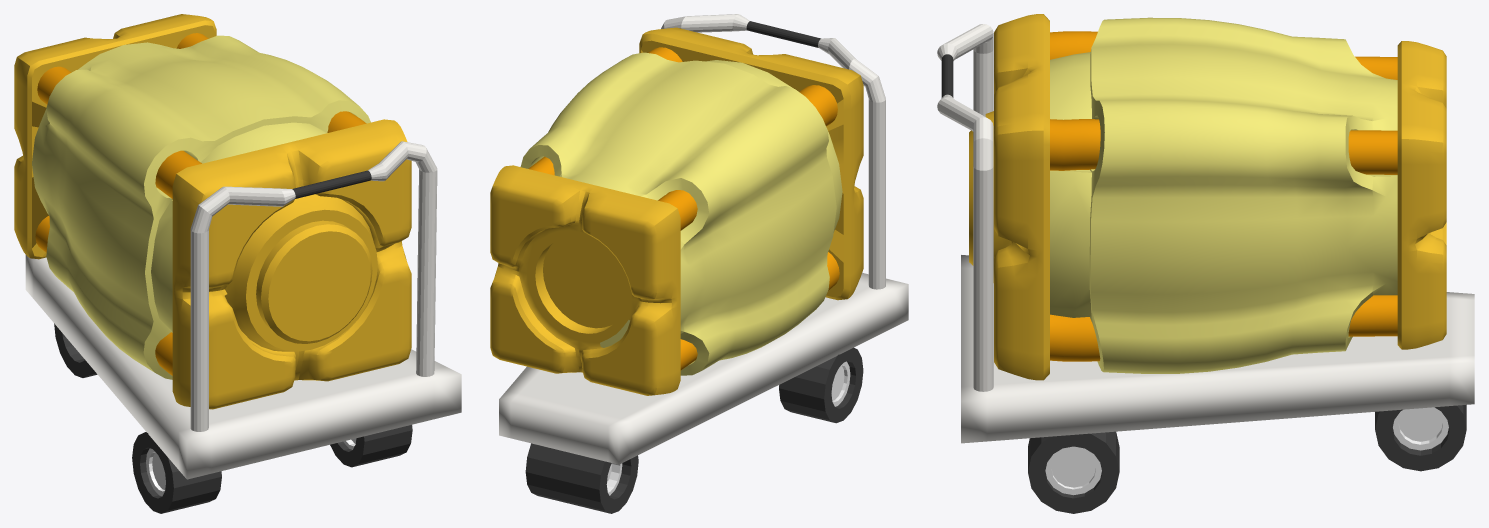
The model's file is Machine.fbx.
3 views of the same model, side by side, from view 1: azimuth 30°, elevation 25°; view 2: azimuth 150°, elevation 25°; view 3: azimuth 270°, elevation 25° (orthographic). The views are drawn at different scales.
Parts seen in each view (by area): view 1: Pumps.005; view 2: Pumps.005; view 3: Pumps.005.
Part boxes in pixels (box(x1,y1,x2,y2)): Pumps.005: box(14, 14, 461, 513); Pumps.005: box(490, 14, 908, 513); Pumps.005: box(937, 14, 1474, 513).
Bounding box in the file's own units: 1.12 × 1.4 × 1.74.
